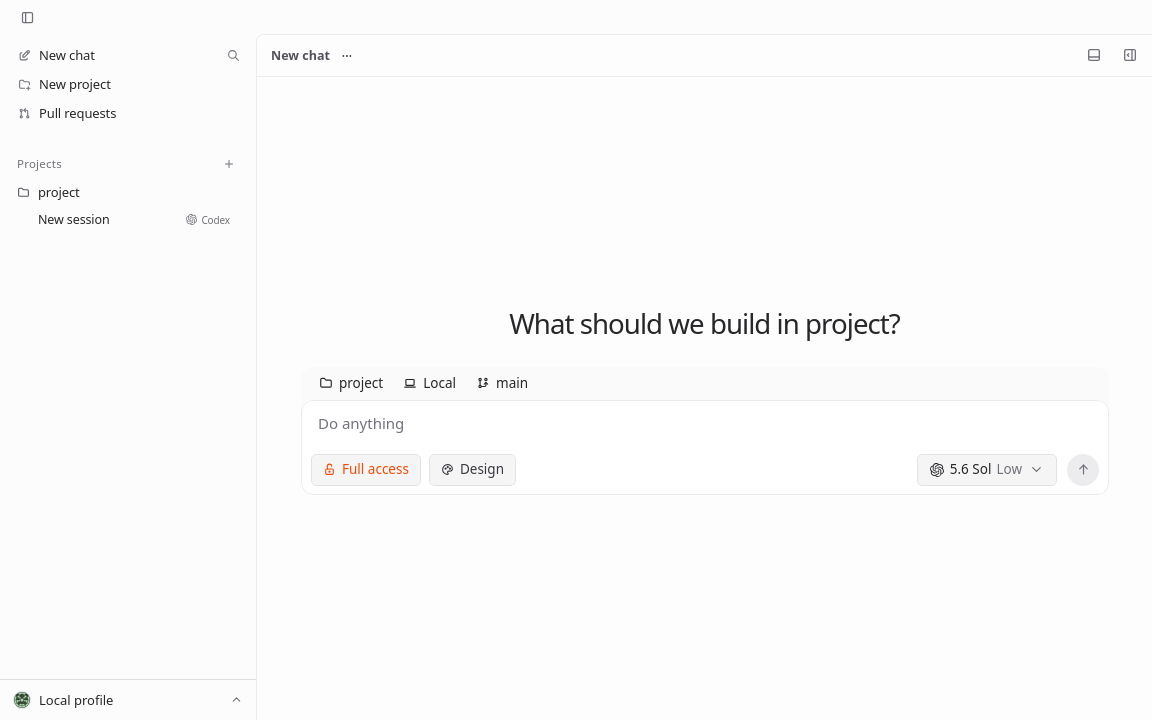
Test case: web client › shows a validated model snapshot while discovery refreshes in the background
What coordinates should you click on to do the following:
click the button with aria-label "Model and reasoning"
I would click on:
 (986, 470)
Its box is [916,454,1056,486].
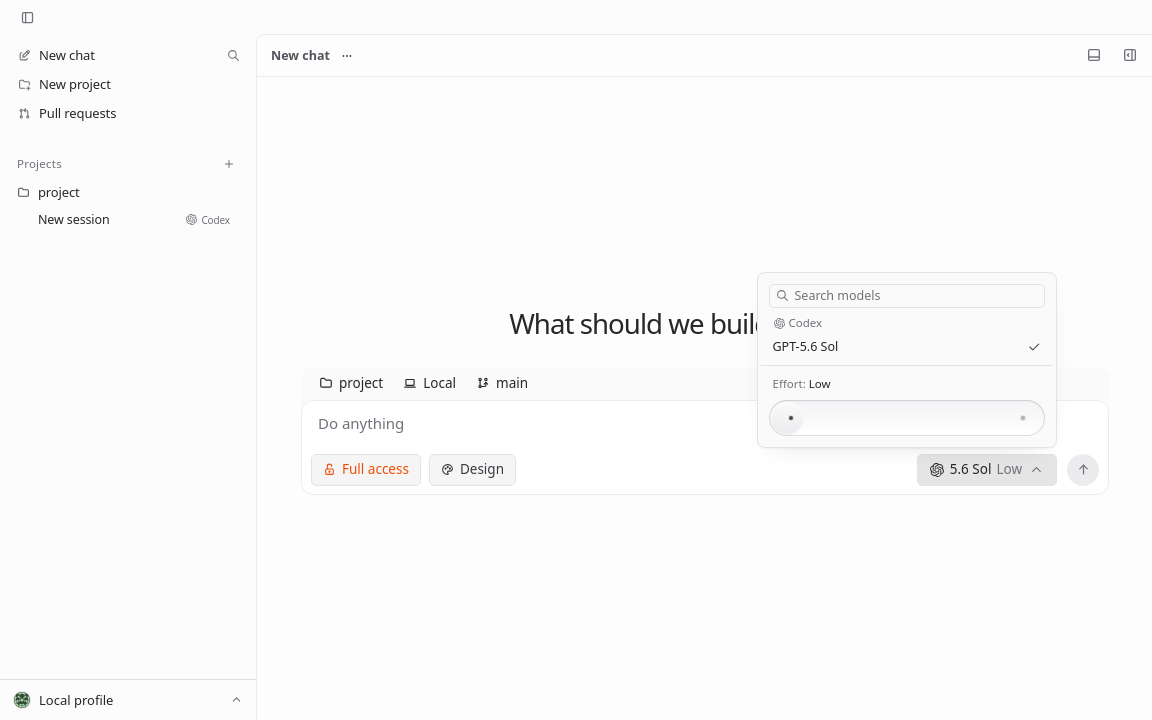
Expected: the button with aria-label "Use GPT-5.6 Sol through Codex" is shown, [764,332,1048,360]
